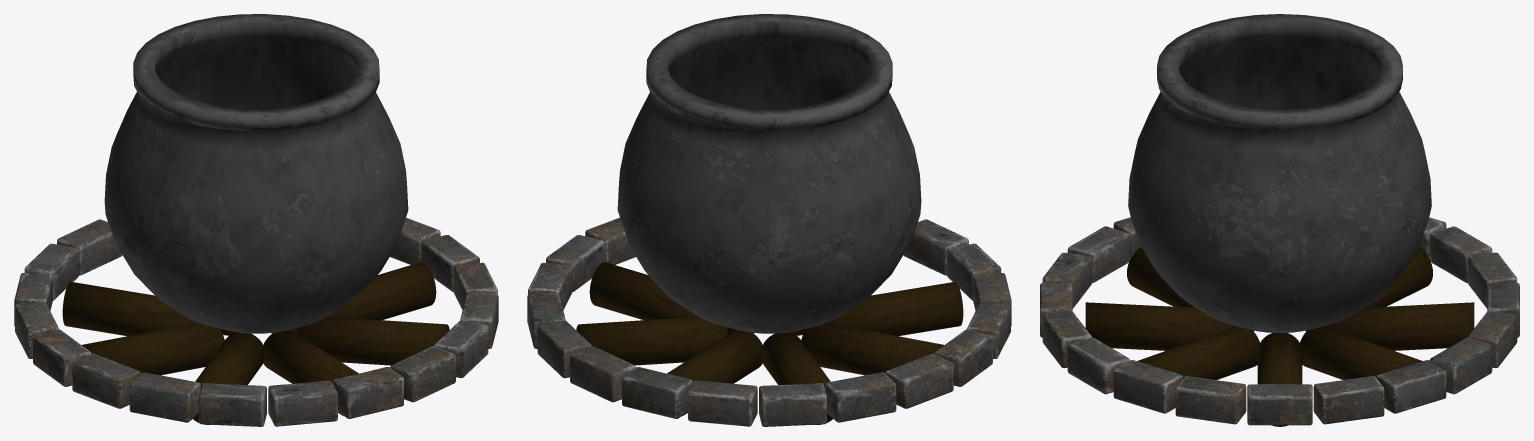
Rendered from cauldron.glb.
3 views of the same model, side by side, from view 1: azimuth 30°, elevation 25°; view 2: azimuth 150°, elevation 25°; view 3: azimuth 270°, elevation 25° (orthographic).
Parts seen in each view (by area): view 1: Cauldron_Cauldron_0, Bricks_Stone_0, Logs_Drova_0; view 2: Cauldron_Cauldron_0, Bricks_Stone_0, Logs_Drova_0; view 3: Cauldron_Cauldron_0, Bricks_Stone_0, Logs_Drova_0.
Part boxes in pixels (x1,y1,x2,y2): Cauldron_Cauldron_0: (104, 14, 408, 333); Bricks_Stone_0: (14, 217, 498, 426); Logs_Drova_0: (62, 262, 449, 424); Cauldron_Cauldron_0: (617, 14, 921, 333); Bricks_Stone_0: (527, 217, 1011, 426); Logs_Drova_0: (576, 262, 963, 424); Cauldron_Cauldron_0: (1128, 14, 1431, 333); Bricks_Stone_0: (1040, 217, 1519, 425); Logs_Drova_0: (1085, 247, 1474, 426).
Bounding box in the file's own units: 310 × 204 × 310.
3 materials, 3 textured.
